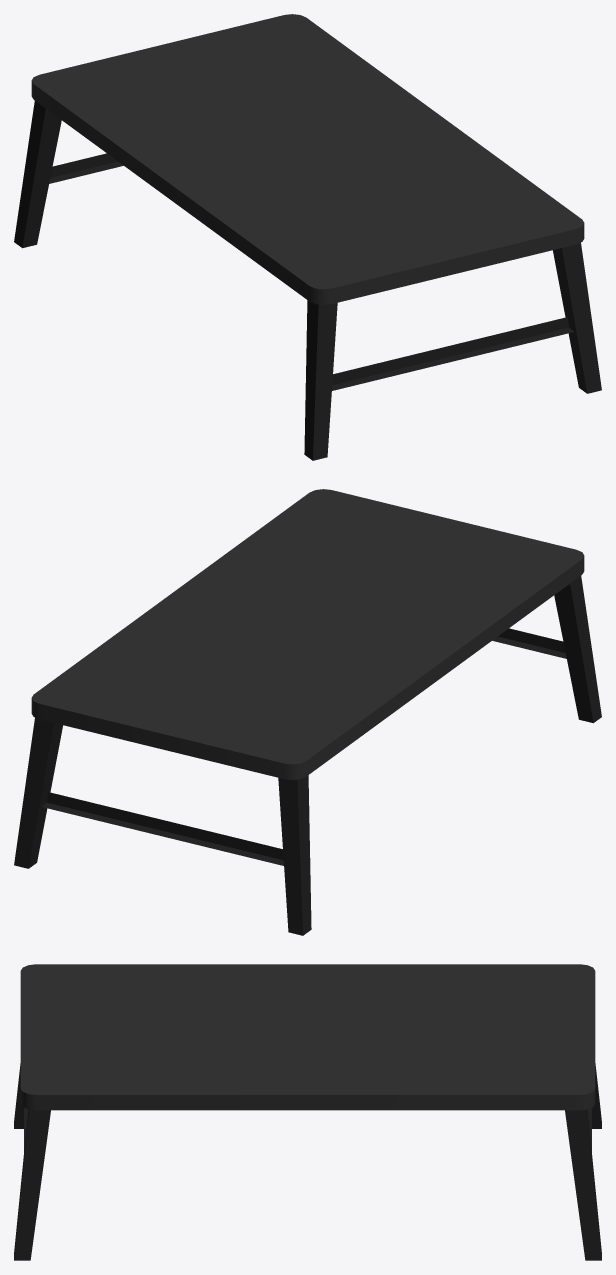
Rendered from SO_OBJ_FBX_Table_01.fbx.
3 renders of one model, top to bottom at view 1: azimuth 30°, elevation 25°; view 2: azimuth 150°, elevation 25°; view 3: azimuth 270°, elevation 25°, orthographic.
Visible parts, largest first — view 1: SO_OBJ_FBX_Table_01; view 2: SO_OBJ_FBX_Table_01; view 3: SO_OBJ_FBX_Table_01.
Part boxes in pixels (x1,y1,x2,y2): SO_OBJ_FBX_Table_01: [14, 14, 601, 460]; SO_OBJ_FBX_Table_01: [14, 489, 601, 935]; SO_OBJ_FBX_Table_01: [14, 964, 601, 1260].
Bounding box in the file's own units: 105 × 56.87 × 187.
